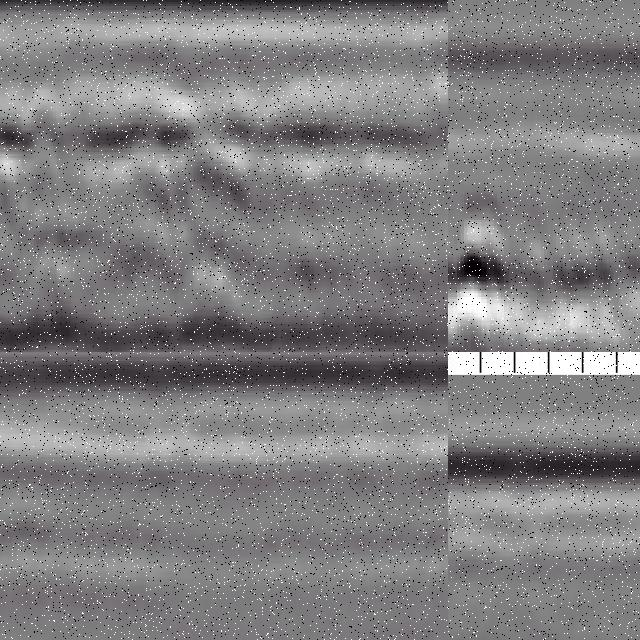loose: (1, 93, 262, 353), (449, 207, 550, 353)
